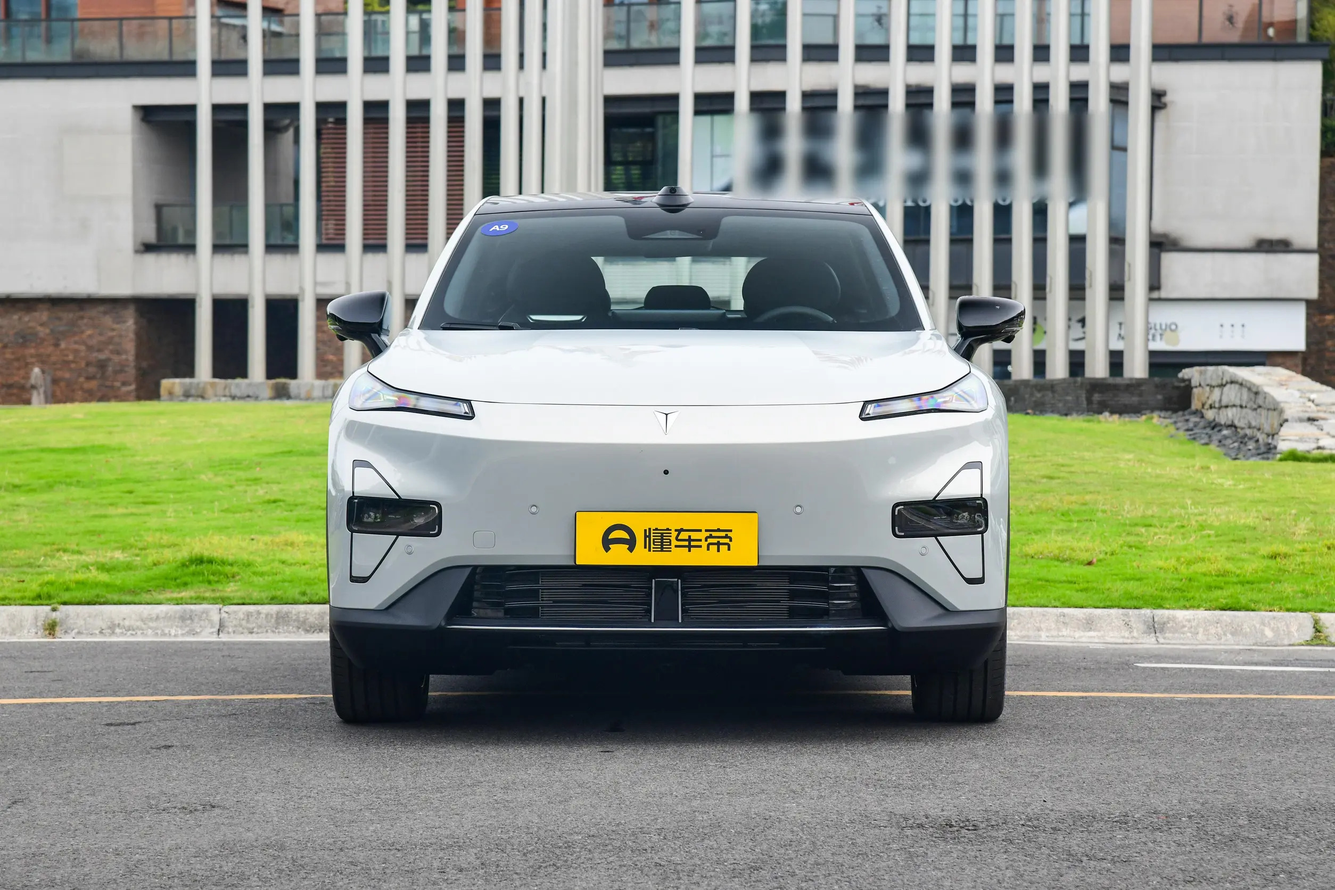Deepal: (654, 410, 680, 434)
